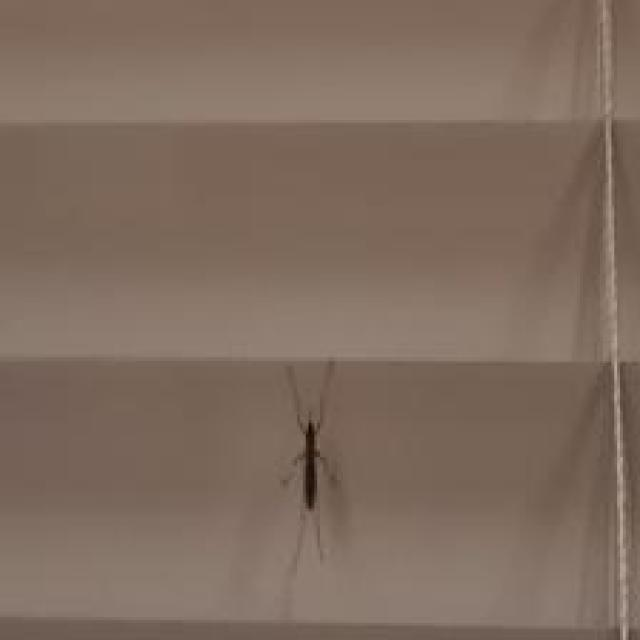Culex: (278, 357, 342, 572)
